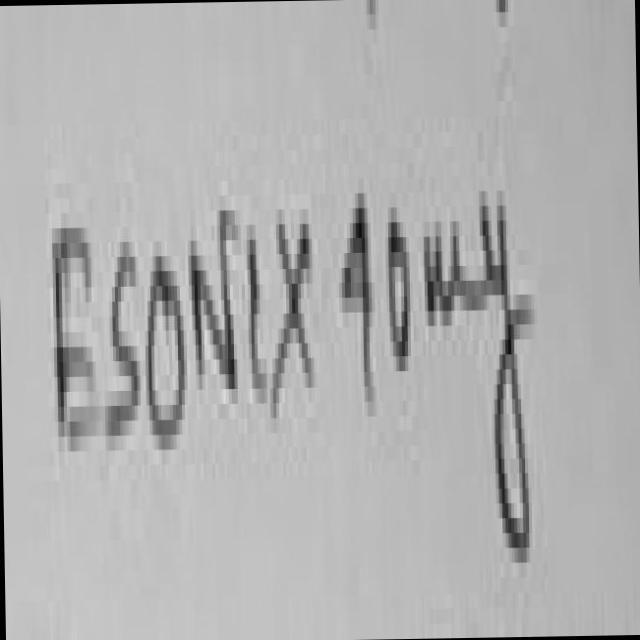0: (392, 222, 410, 371)
4: (345, 208, 373, 408)
E: (52, 227, 98, 460)
I: (251, 239, 266, 388)
N: (191, 198, 237, 417)
O: (148, 256, 184, 449)
S: (108, 256, 140, 428)
X: (273, 223, 314, 410)
g: (479, 167, 532, 562)
m: (426, 221, 482, 325)
